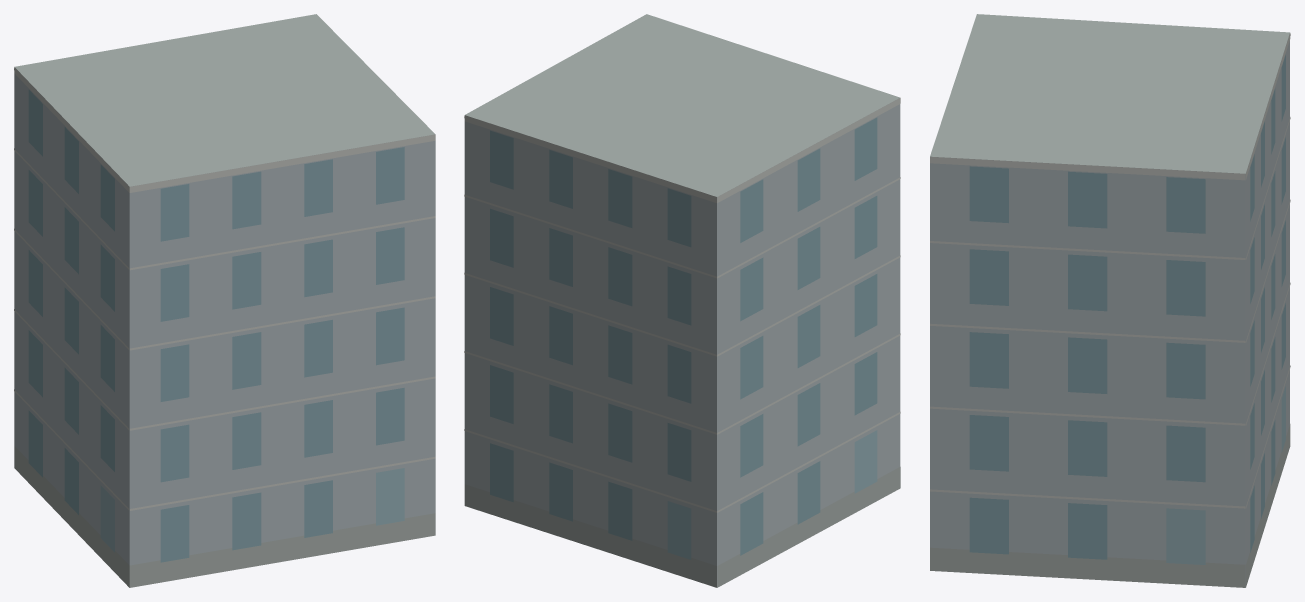
The model's file is residential-9bde17d6-c015-410b-954a-4151ec08f025.glb.
3 renders of one model, left to right at view 1: azimuth 30°, elevation 25°; view 2: azimuth 150°, elevation 25°; view 3: azimuth 270°, elevation 25°, orthographic. The views are drawn at different scales.
Visible parts, largest first — view 1: residential-9bde17d6-c015-410b-954a-4151ec08f025.tmp; view 2: residential-9bde17d6-c015-410b-954a-4151ec08f025.tmp; view 3: residential-9bde17d6-c015-410b-954a-4151ec08f025.tmp.
Boxes of the visible parts, x1=… form: residential-9bde17d6-c015-410b-954a-4151ec08f025.tmp: x1=14, y1=14, x2=435, y2=587; residential-9bde17d6-c015-410b-954a-4151ec08f025.tmp: x1=464, y1=14, x2=900, y2=587; residential-9bde17d6-c015-410b-954a-4151ec08f025.tmp: x1=930, y1=14, x2=1290, y2=587.
Size of the model in its own units: 12.64 by 15.25 by 12.05.
